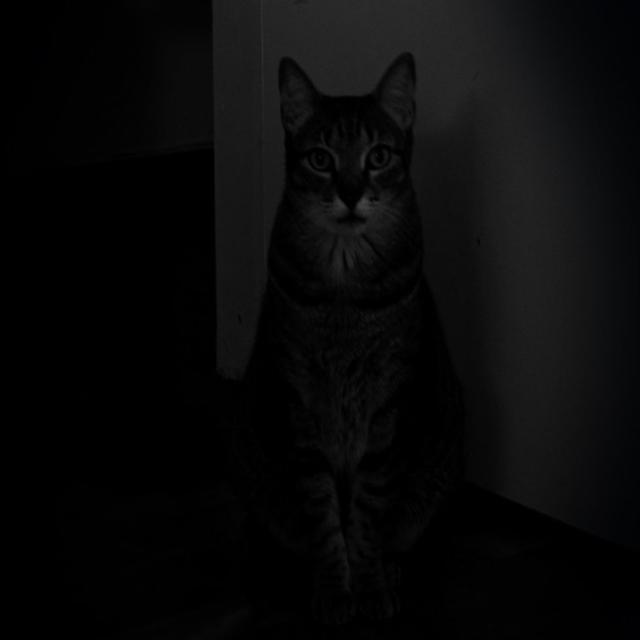Cat: (228, 23, 477, 640)
